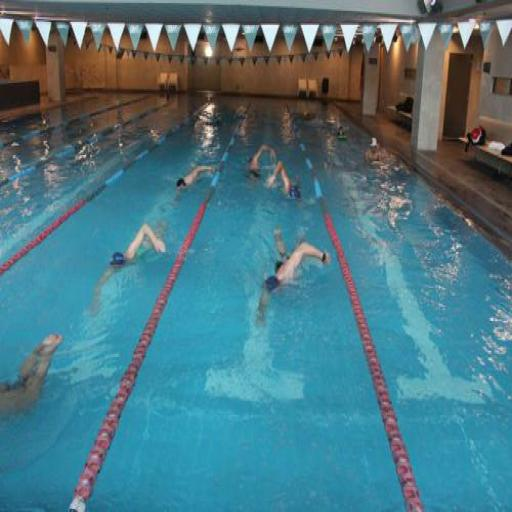swimming: (252, 222, 333, 329), (87, 218, 169, 318), (0, 329, 66, 423), (171, 158, 224, 197), (263, 157, 304, 205)
